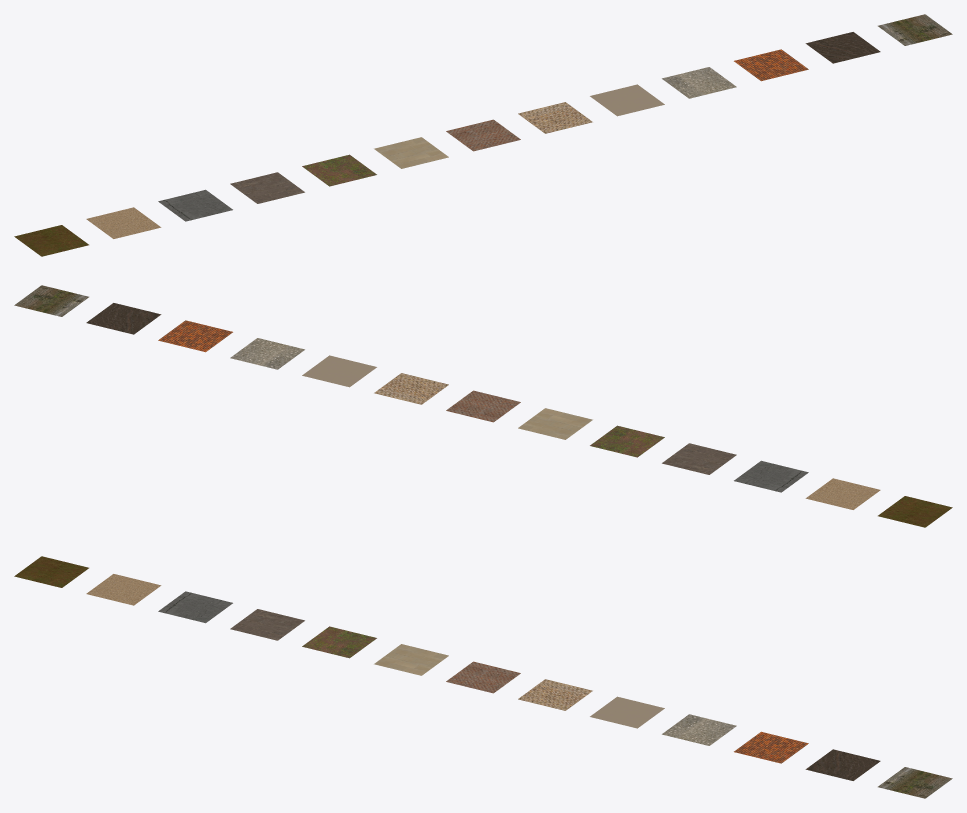
File: materials.glb
3 renders of one model, top to bottom at view 1: azimuth 30°, elevation 25°; view 2: azimuth 150°, elevation 25°; view 3: azimuth 330°, elevation 25°, orthographic.
Parts seen in each view (by area): view 1: asphalt, bark-willow, brick, gravel, paving, slate, tiles, gault, mud, render, stone, bark (+1 smaller); view 2: asphalt, bark-willow, brick, gravel, paving, slate, tiles, gault, mud, render, stone, bark (+1 smaller); view 3: asphalt, bark-willow, brick, gravel, paving, slate, tiles, gault, mud, render, stone, bark (+1 smaller).
Boxes of the visible parts, x1,y1,x2,y2 form: asphalt: [158, 189, 232, 221]; bark-willow: [805, 32, 880, 63]; brick: [446, 119, 520, 151]; gravel: [86, 207, 161, 238]; paving: [230, 172, 304, 203]; slate: [662, 67, 736, 98]; tiles: [734, 49, 808, 81]; gault: [518, 102, 592, 133]; mud: [302, 154, 376, 186]; render: [590, 84, 664, 116]; stone: [374, 137, 448, 168]; bark: [878, 14, 952, 45]; asphalt: [734, 460, 808, 492]; bark-willow: [86, 303, 161, 334]; brick: [446, 390, 520, 422]; gravel: [805, 478, 880, 509]; paving: [662, 443, 736, 474]; slate: [230, 338, 304, 369]; tiles: [158, 320, 232, 352]; gault: [374, 373, 448, 404]; mud: [590, 425, 664, 457]; render: [302, 355, 376, 387]; stone: [518, 408, 592, 439]; bark: [14, 285, 88, 316]; asphalt: [158, 591, 232, 623]; bark-willow: [805, 749, 880, 780]; brick: [446, 661, 520, 693]; gravel: [86, 574, 161, 605]; paving: [230, 609, 304, 640]; slate: [662, 714, 736, 745]; tiles: [734, 731, 808, 763]; gault: [518, 679, 592, 710]; mud: [302, 626, 376, 658]; render: [590, 696, 664, 728]; stone: [374, 644, 448, 675]; bark: [878, 767, 952, 798].
Size of the model in its own units: 19 by 0 by 1.
13 materials, 13 textured.
